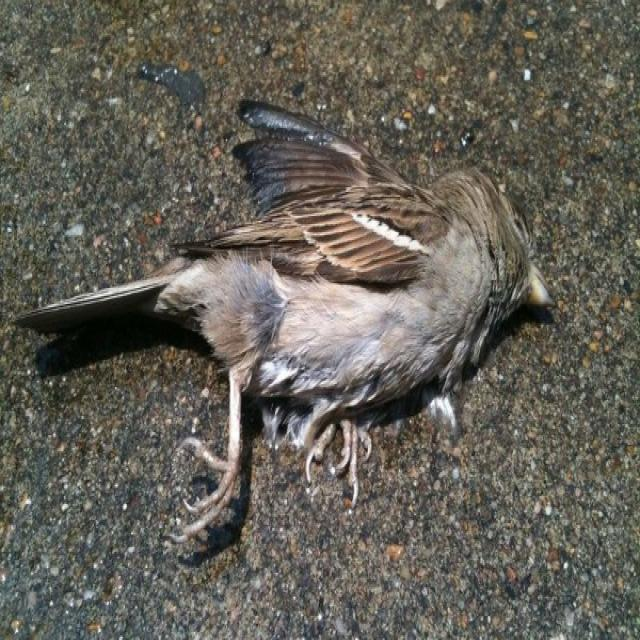Bangkai Burung: (15, 87, 584, 610)
